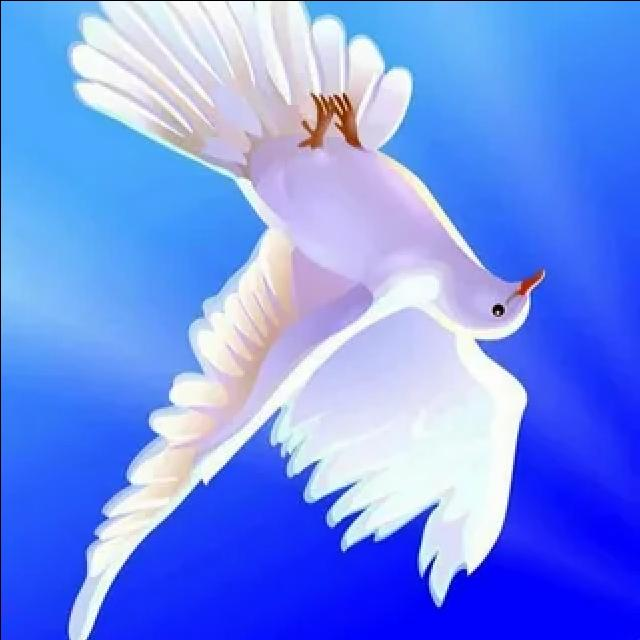pigeon: (45, 0, 553, 640)
